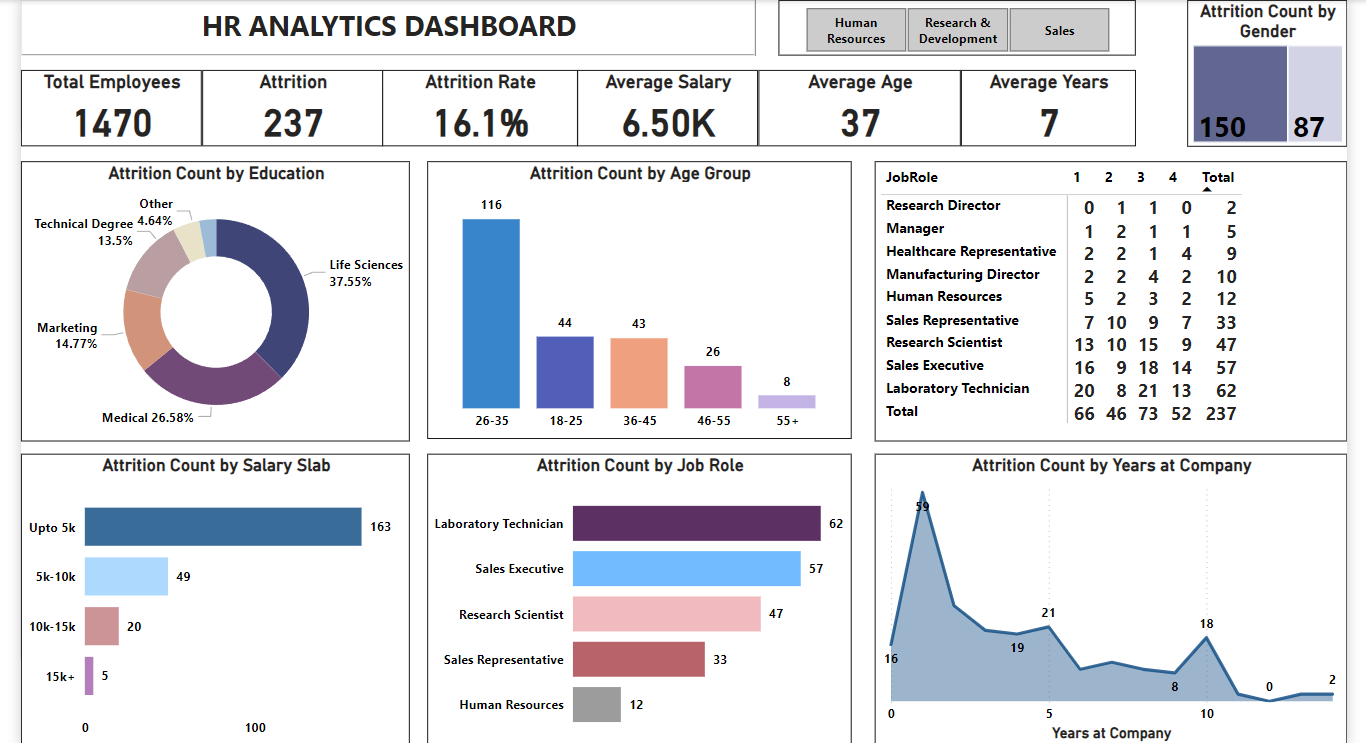

The page's visual inventory and layout, read from the dashboard file:
{"tool":"powerbi","page":{"name":"Page 1","canvas":[1280,720],"ordinal":0},"visuals":[{"type":"card","title":"Total Employees","fields":{"Values":["CountNonNull(HR_Analytics.EmpID)"]},"box":[0,68,174.3,73.7],"z":0},{"type":"card","title":"Attrition","fields":{"Values":["Sum(HR_Analytics.Attrition Count)"]},"box":[174.3,68,174.3,73.7],"z":1000},{"type":"card","title":"Average Years","fields":{"Values":["Avg(HR_Analytics.YearsAtCompany)"]},"box":[907.1,68,168.7,73.7],"z":2000},{"type":"card","title":"Average Salary","fields":{"Values":["Avg(HR_Analytics.MonthlyIncome)"]},"box":[537.2,68,174.3,73.7],"z":3000},{"type":"card","title":"Average Age","fields":{"Values":["Avg(HR_Analytics.Age)"]},"box":[711.5,68,195.6,73.7],"z":4000},{"type":"card","title":"Attrition Rate","fields":{"Values":["HR_Analytics.Attrition Rate"]},"box":[348.7,68,188.5,73.7],"z":5000},{"type":"donutChart","title":"Attrition Count by Education","fields":{"Category":["HR_Analytics.EducationField"],"Y":["Sum(HR_Analytics.Attrition Count)"]},"box":[0,155.9,375.6,270.7],"z":6000},{"type":"columnChart","title":"Attrition Count by Age Group","fields":{"Category":["HR_Analytics.AgeGroup"],"Y":["Sum(HR_Analytics.Attrition Count)"]},"box":[392.6,155.9,409.6,267.9],"z":7000},{"type":"pivotTable","fields":{"Rows":["HR_Analytics.JobRole"],"Columns":["HR_Analytics.JobSatisfaction"],"Values":["Sum(HR_Analytics.Attrition Count)"]},"box":[823.5,155.9,456.4,270.7],"z":8000},{"type":"barChart","title":"Attrition Count by Salary Slab","fields":{"Category":["HR_Analytics.SalarySlab"],"Y":["Sum(HR_Analytics.Attrition Count)"]},"box":[0,438,375.6,282],"z":9000},{"type":"clusteredBarChart","title":"Attrition Count by Job Role","fields":{"Category":["HR_Analytics.JobRole"],"Y":["Sum(HR_Analytics.Attrition Count)"]},"box":[392.6,438,409.6,282],"z":10000},{"type":"areaChart","title":"Attrition Count by Years at Company","fields":{"Category":["HR_Analytics.YearsAtCompany"],"Y":["Sum(HR_Analytics.Attrition Count)"]},"box":[823.5,438,456.4,282],"z":11000},{"type":"treemap","title":"Attrition Count by Gender","fields":{"Values":["Sum(HR_Analytics.Attrition Count)"],"Group":["HR_Analytics.Gender"]},"box":[1125.4,0,154.5,141.7],"z":12000},{"type":"textbox","box":[0,0,708.7,53.9],"z":13000},{"type":"slicer","fields":{"Values":["HR_Analytics.Department"]},"box":[731.3,0,344.4,53.9],"z":14000}]}

Visuals, with their boxes in screenshot pixels (x1, y1, x2, y2):
"Total Employees" card: 39 83 217 159
"Attrition" card: 217 83 394 159
"Average Years" card: 963 83 1135 159
"Average Salary" card: 586 83 764 159
"Average Age" card: 764 83 963 159
"Attrition Rate" card: 394 83 586 159
"Attrition Count by Education" donutChart: 39 173 422 449
"Attrition Count by Age Group" columnChart: 439 173 856 446
pivotTable - HR_Analytics.JobRole x HR_Analytics.JobSatisfaction: 878 173 1342 449
"Attrition Count by Salary Slab" barChart: 39 460 422 742
"Attrition Count by Job Role" clusteredBarChart: 439 460 856 742
"Attrition Count by Years at Company" areaChart: 878 460 1342 742
"Attrition Count by Gender" treemap: 1185 14 1342 159
textbox: 39 14 761 69
slicer - HR_Analytics.Department: 784 14 1135 69
